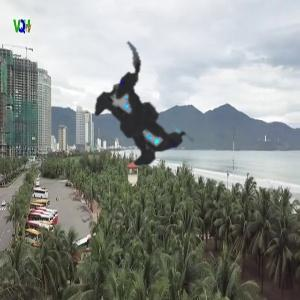drone: (29, 15, 253, 239)
